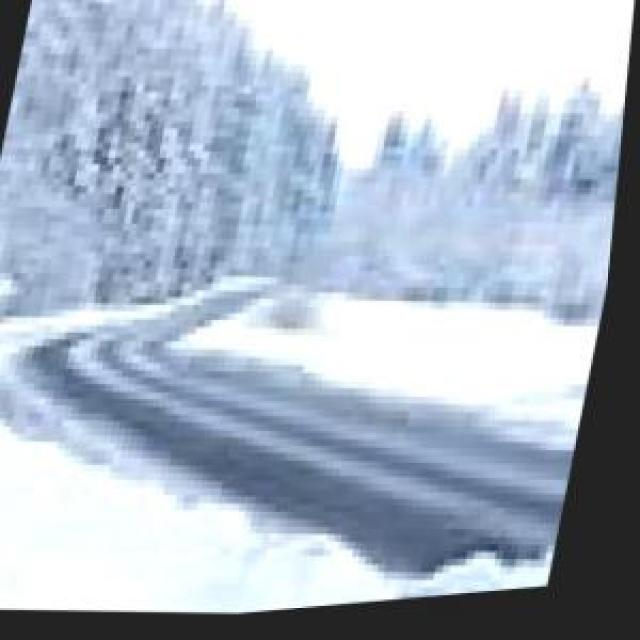ice-road: (53, 291, 582, 574)
